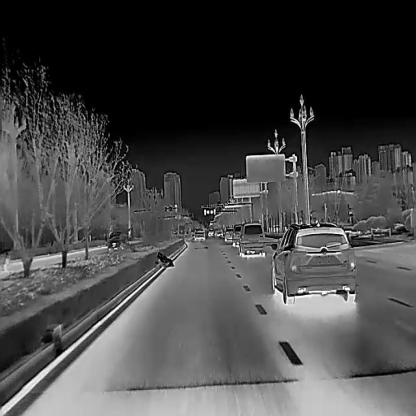car: (270, 221, 357, 304), (238, 221, 265, 257), (106, 229, 128, 250), (232, 223, 250, 247), (224, 226, 237, 244), (192, 226, 204, 240), (206, 228, 215, 237)
